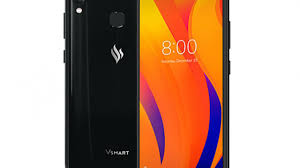vsmart: (136, 1, 234, 168), (62, 1, 141, 168)
